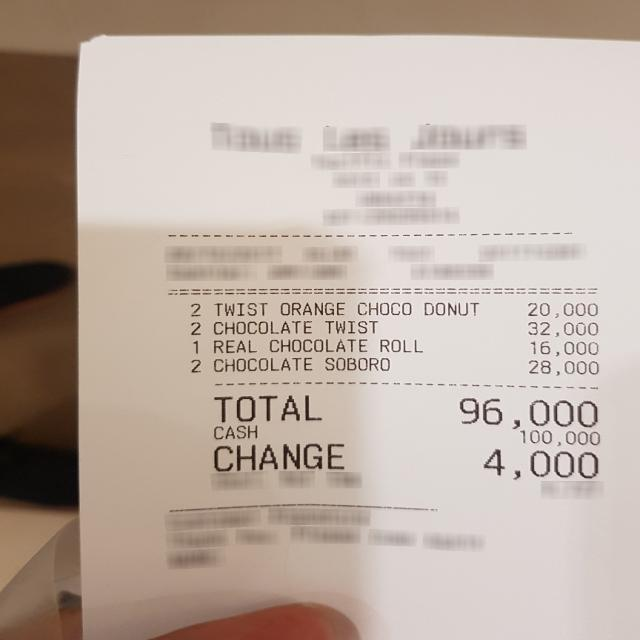kertas: (79, 36, 638, 640)
